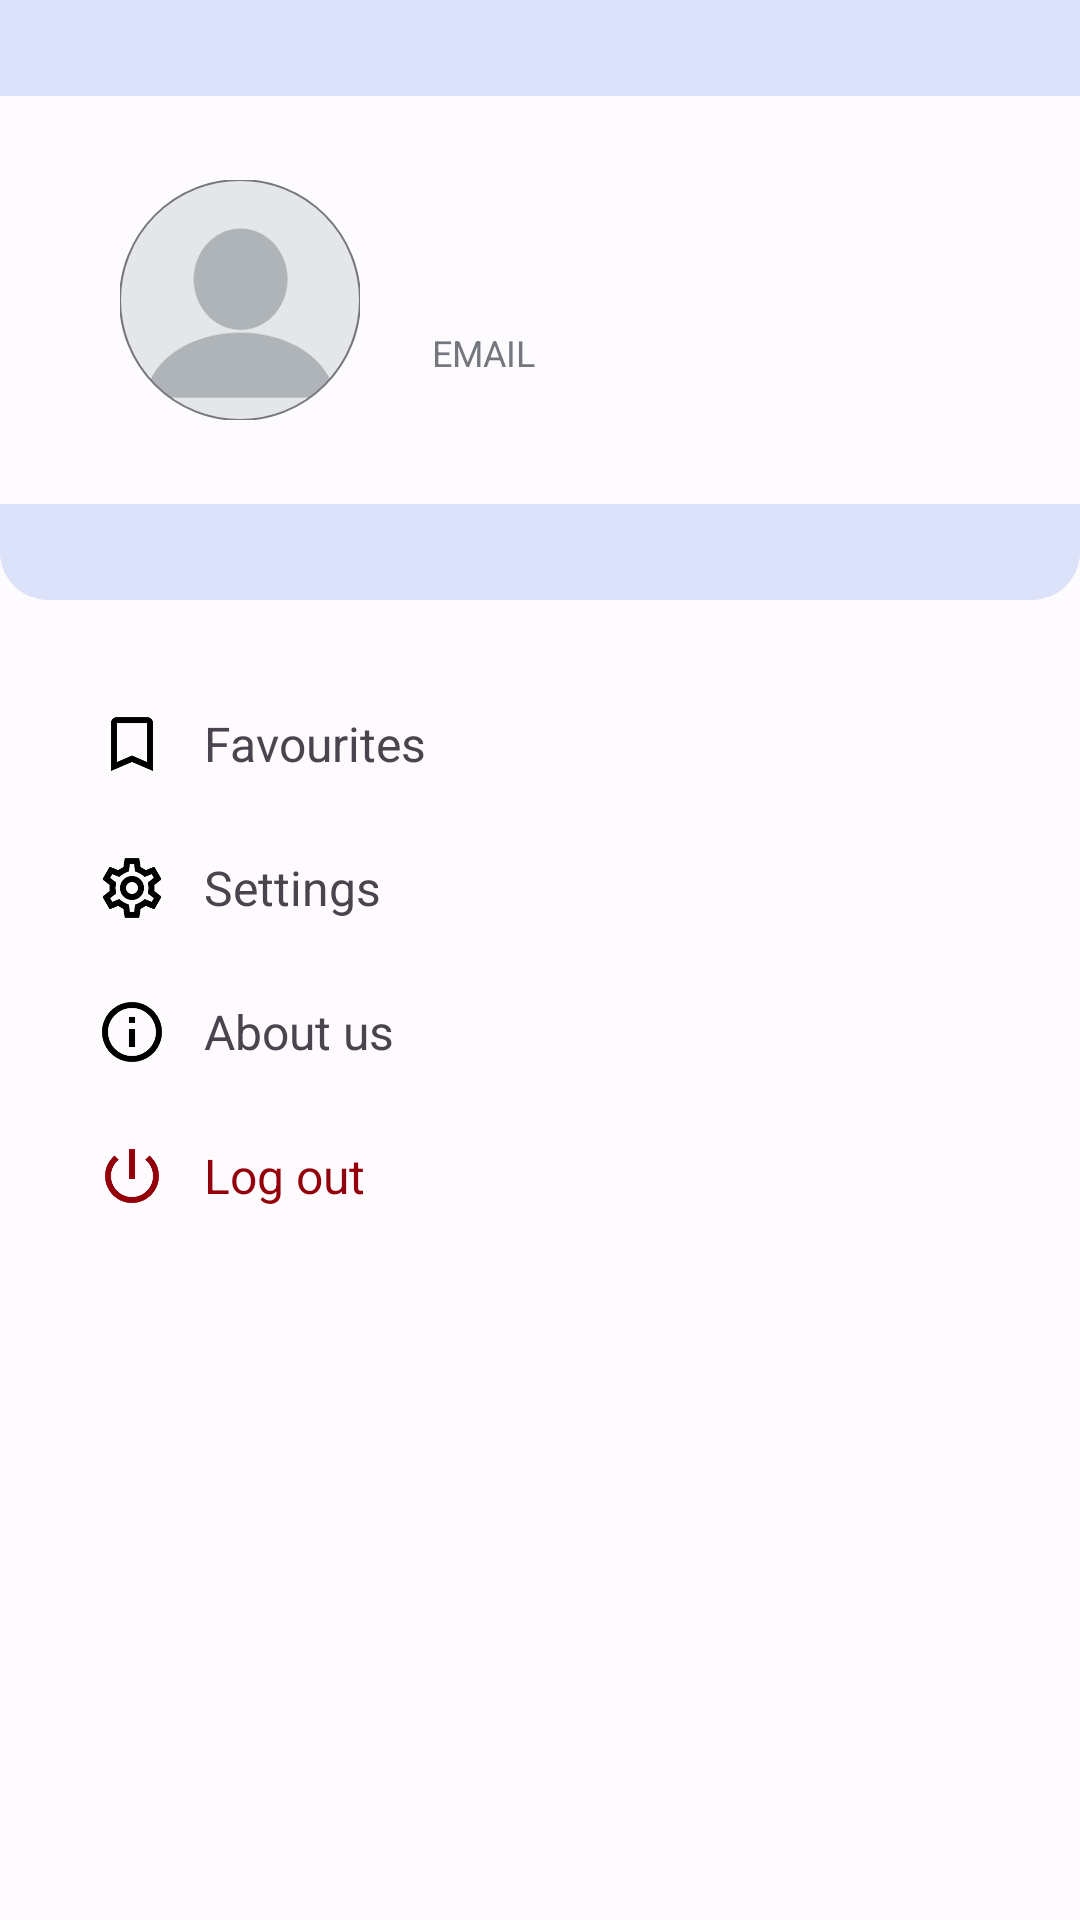

Icon bounding boxes for this 1080×1920 phone screenshot, format BBox(x1, y1, x2, y2):
base profile pic: BBox(120, 180, 360, 420)
